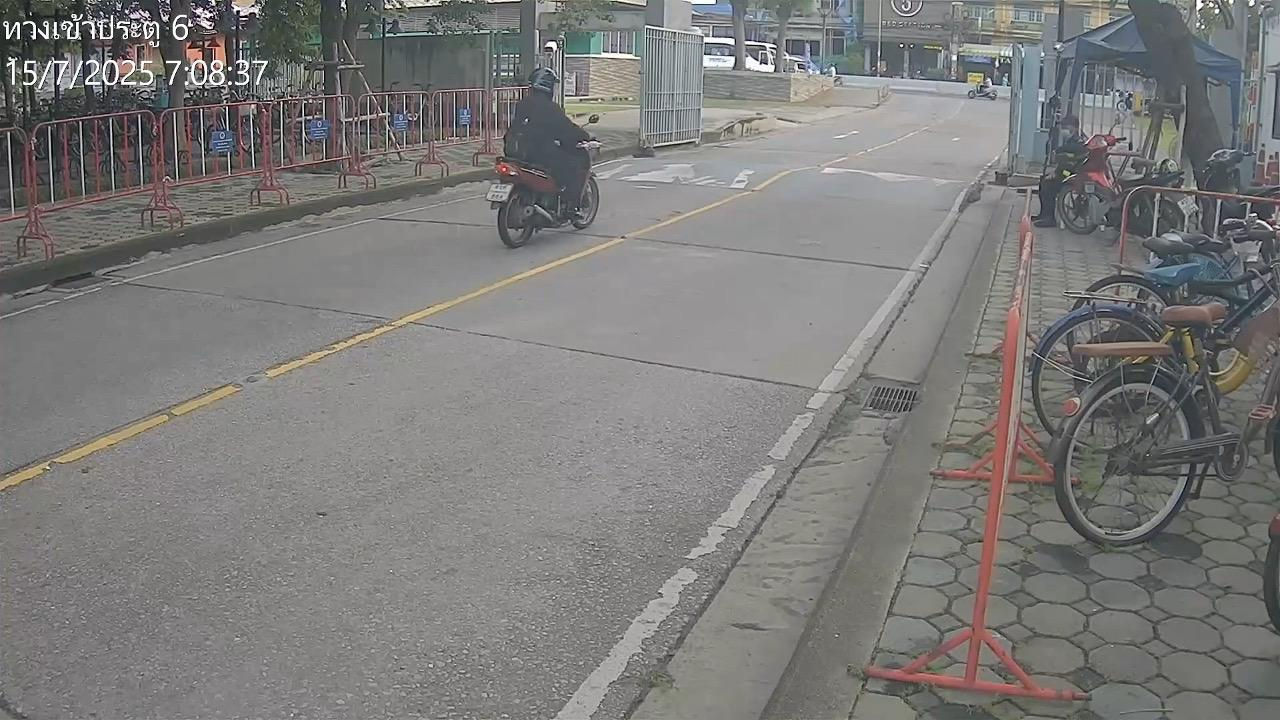With-Helmet: (530, 66, 559, 97)
